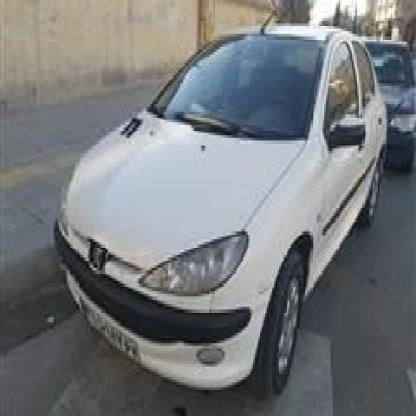Car: (47, 32, 388, 388), (367, 39, 416, 187)
